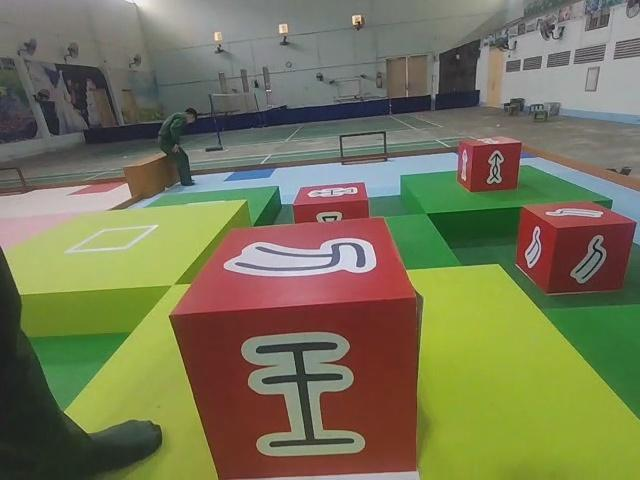R2 Fake: (169, 217, 419, 478)
R2 Real: (516, 202, 636, 297), (455, 133, 525, 194)
